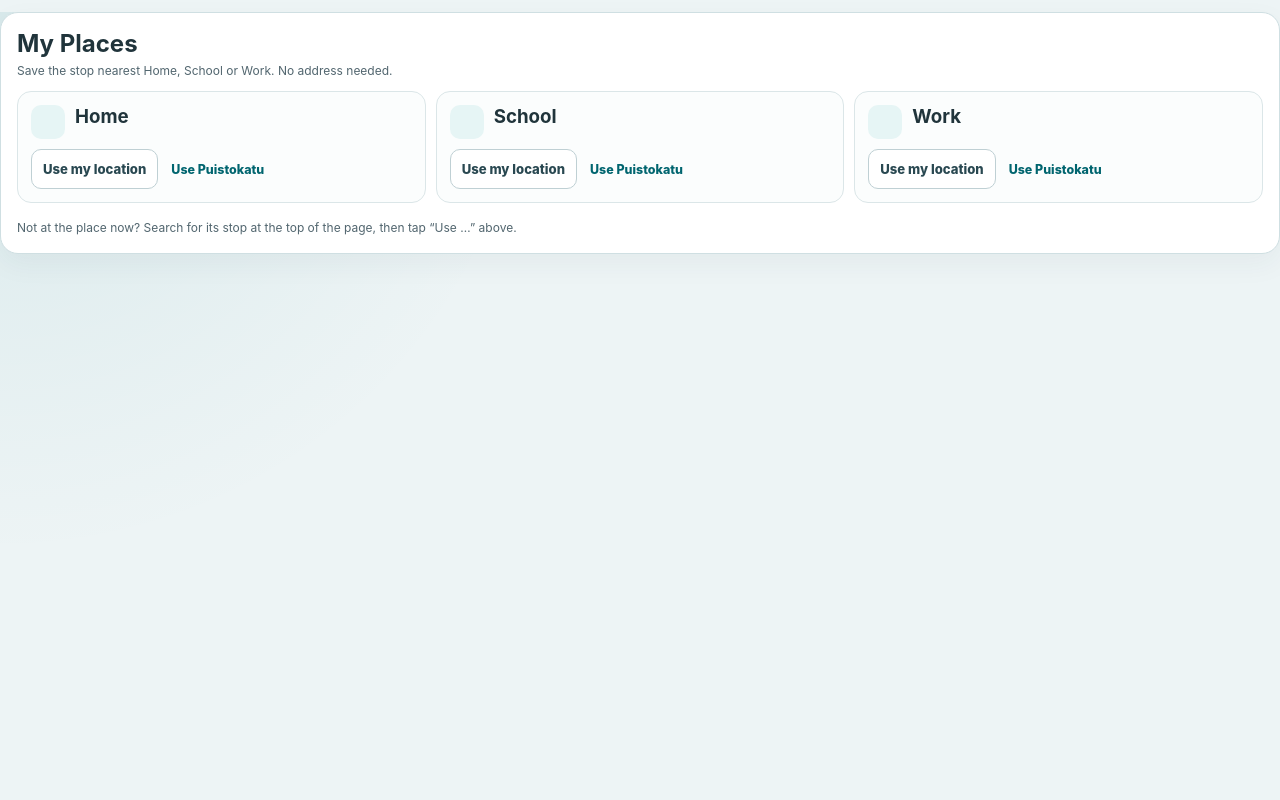
Test: a stop chosen by hand is not followed by a dangling separator
Click the button with aria-label "Use Puistokatu for Home". click: {"x": 218, "y": 169}
box: x1=165 y1=149 x2=270 y2=189
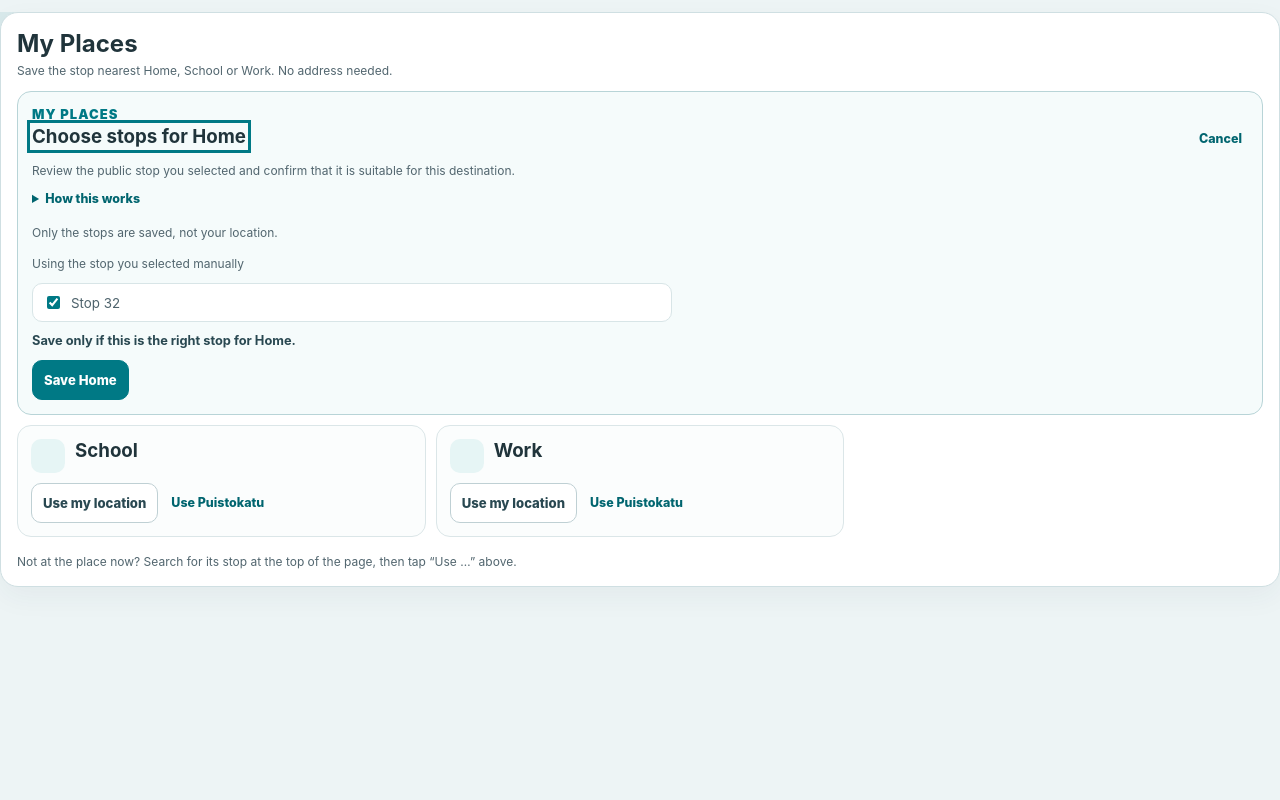
Result: the text "Stop 32" is shown at x1=71 y1=295 x2=120 y2=311
